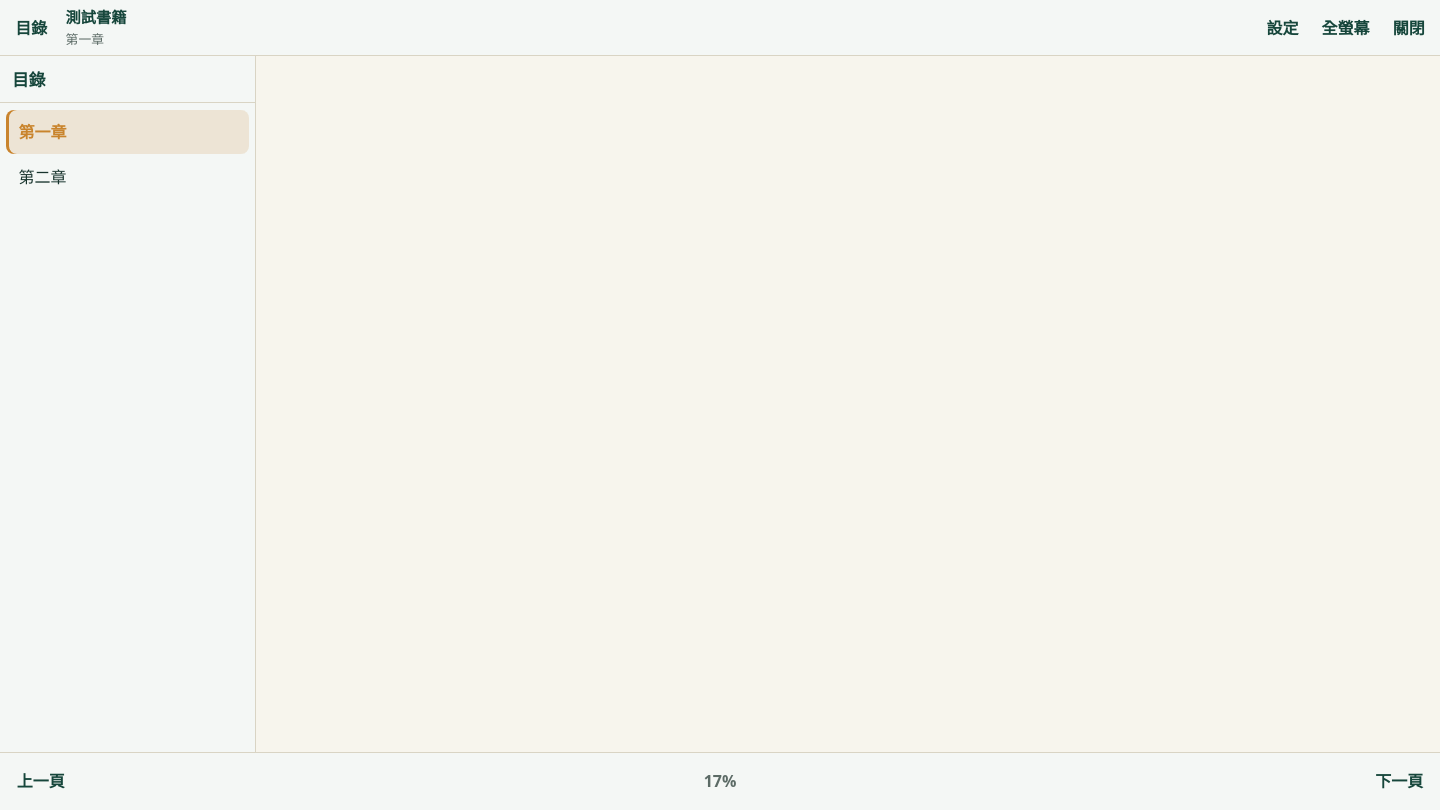
Test: ReaderScreen › falls back to focus mode when Fullscreen API is unavailable
This screenshot has width=1440, height=810.
What coordinates should you click on to do the following:
click the button "全螢幕"
I would click on:
 (1346, 28)
Its box is [1313,6,1378,50].
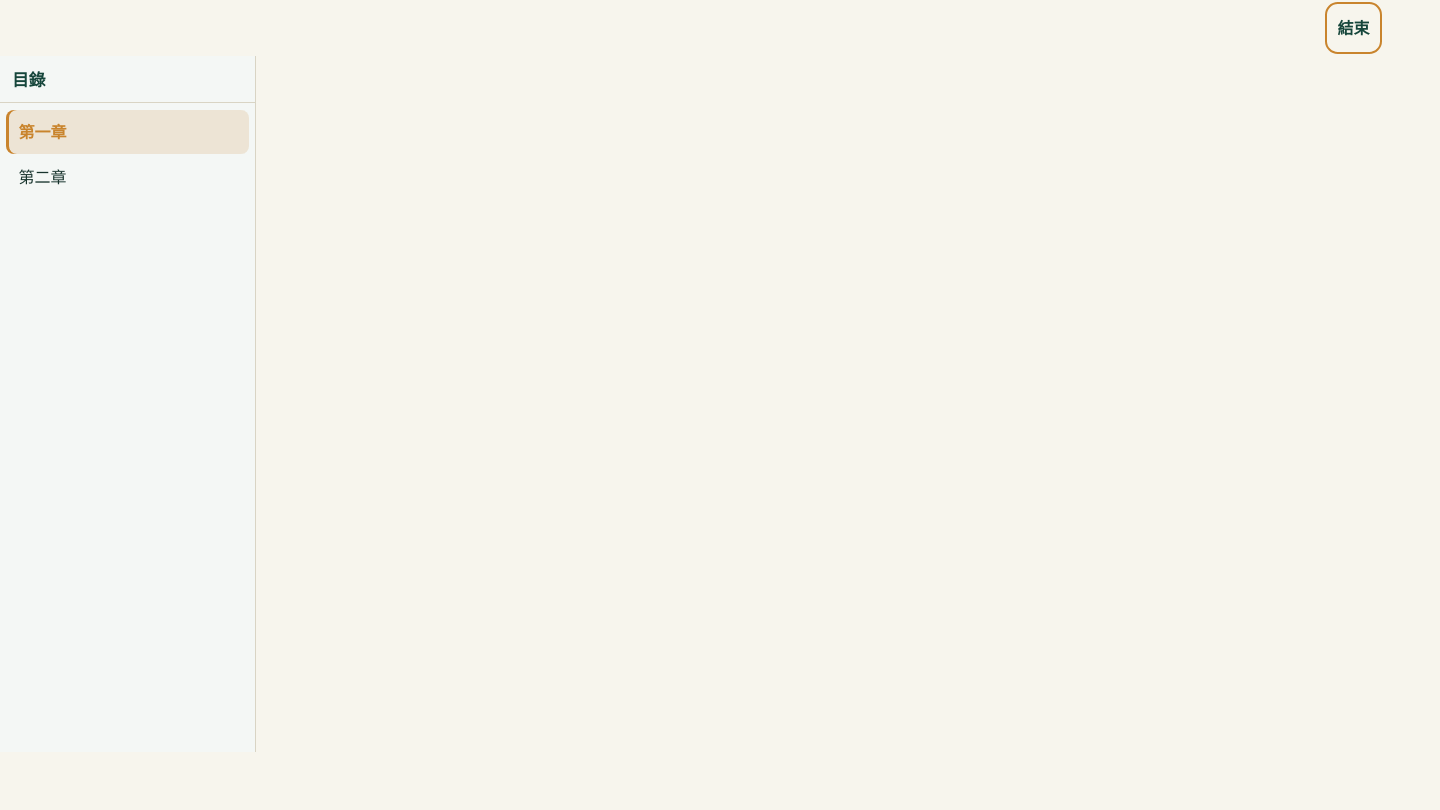
Result: the button with aria-label "結束全螢幕" is shown at [1329,6,1378,50]
